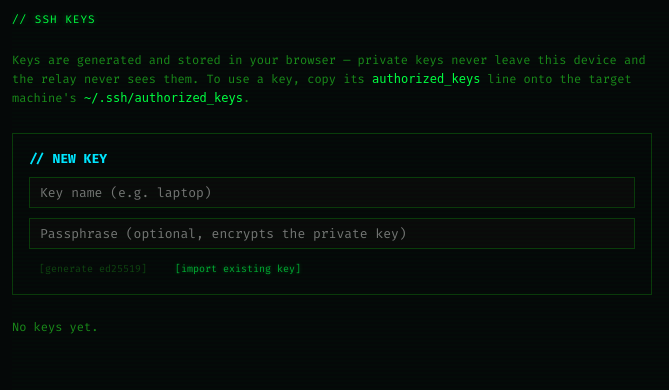
KeysPage › generates, saves, and refreshes the list
Type "fresh" into the field with placeholder "Key name (e.g. laptop)" at (332,192), box [29,177,635,208]
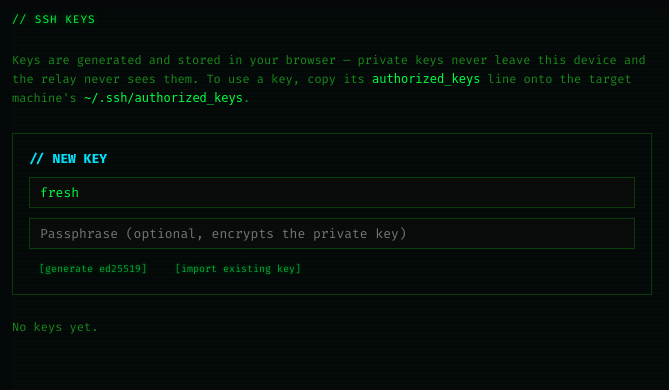
Click the button "[generate ed25519]" at (93,268), box [29,259,157,278]
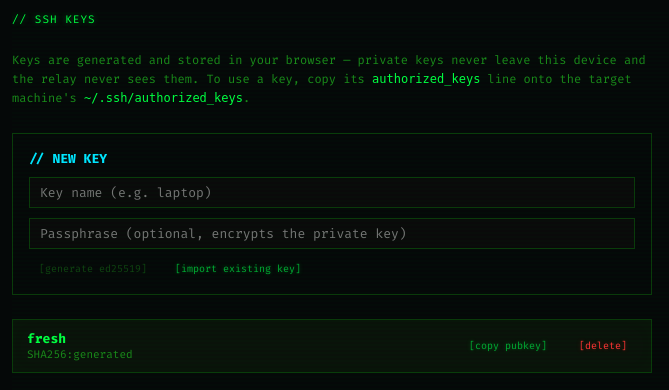
Check: the text "SHA256:generated" is shown, box [27,347,133,362]
